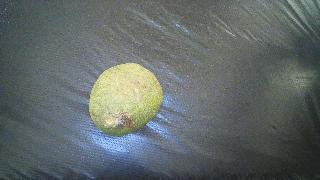DESECHO: (89, 63, 163, 136)
